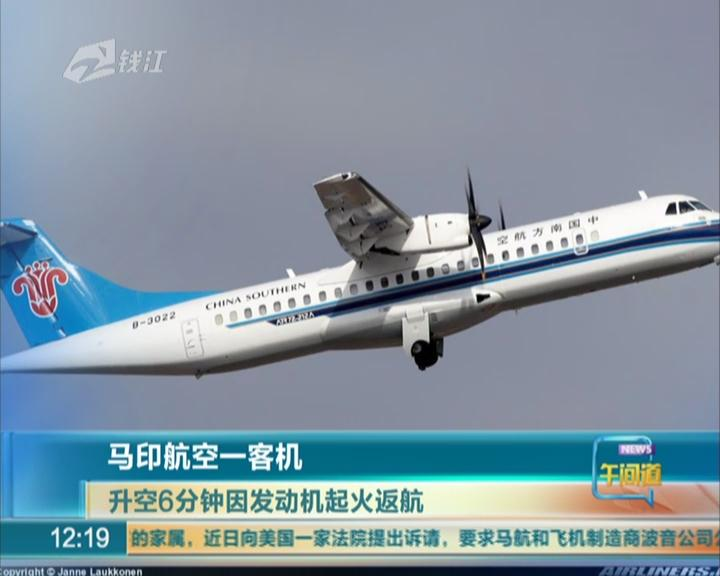airplane: (2, 161, 720, 382)
